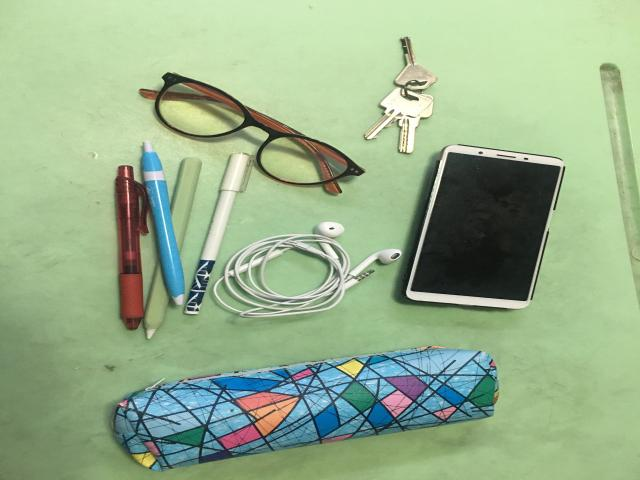Glasses: (140, 73, 363, 186)
Keys: (365, 38, 437, 153)
Mobile phone: (405, 145, 565, 308)
Pen: (185, 154, 252, 314), (142, 142, 185, 305), (115, 166, 150, 329)
wire: (213, 220, 402, 318)
